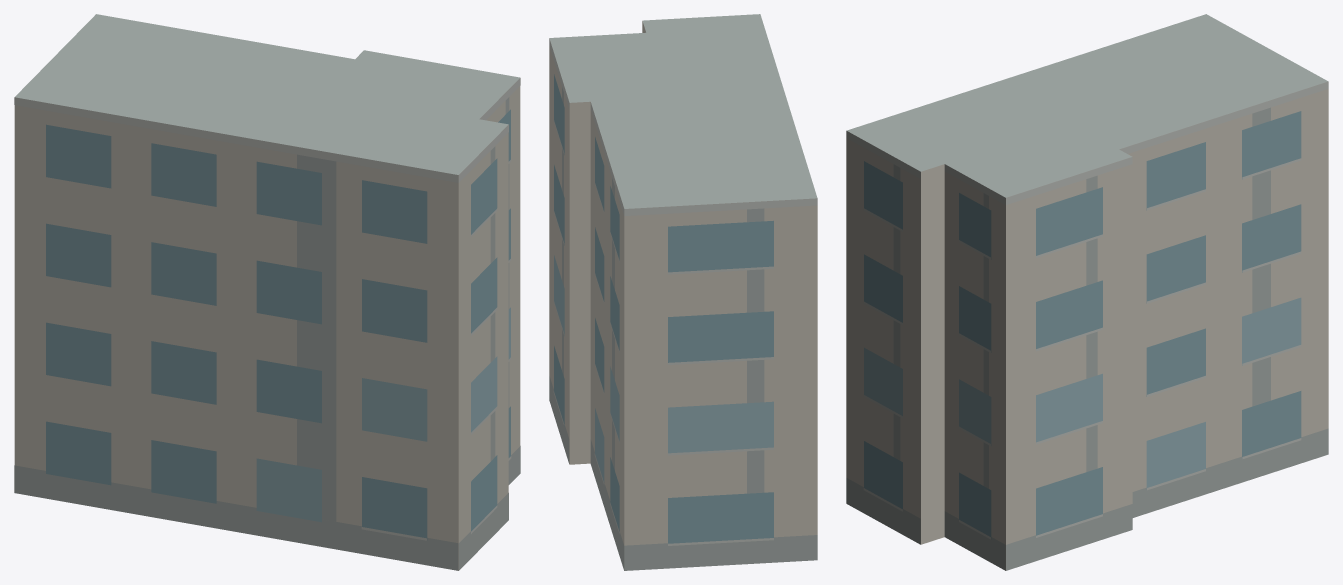
The model's file is residential-0ef9d48a-4274-4575-b28f-d0eab3f87f8f.glb.
3 renders of one model, left to right at view 1: azimuth 30°, elevation 25°; view 2: azimuth 150°, elevation 25°; view 3: azimuth 270°, elevation 25°, orthographic. The views are drawn at different scales.
Parts seen in each view (by area): view 1: residential-0ef9d48a-4274-4575-b28f-d0eab3f87f8f.tmp; view 2: residential-0ef9d48a-4274-4575-b28f-d0eab3f87f8f.tmp; view 3: residential-0ef9d48a-4274-4575-b28f-d0eab3f87f8f.tmp.
Part boxes in pixels (x1,y1,x2,y2): residential-0ef9d48a-4274-4575-b28f-d0eab3f87f8f.tmp: (14,14,520,570); residential-0ef9d48a-4274-4575-b28f-d0eab3f87f8f.tmp: (549,14,817,570); residential-0ef9d48a-4274-4575-b28f-d0eab3f87f8f.tmp: (846,14,1328,570).
Size of the model in its own units: 13.01 by 12.3 by 14.41.
